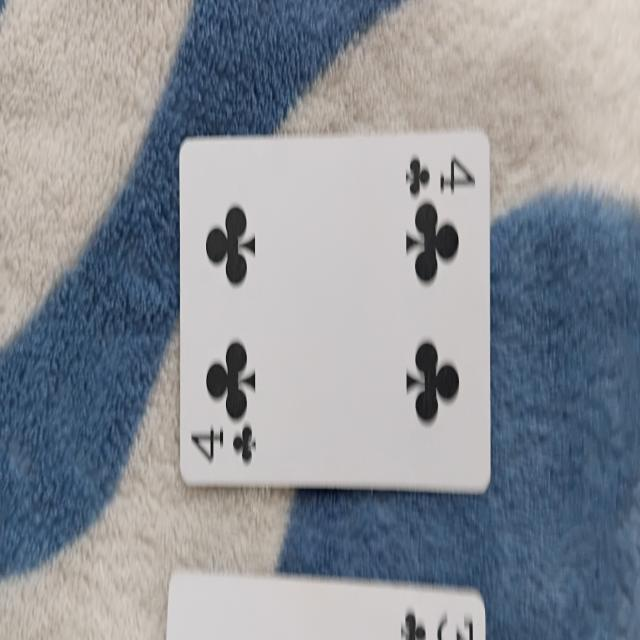4C: (181, 140, 490, 493)
